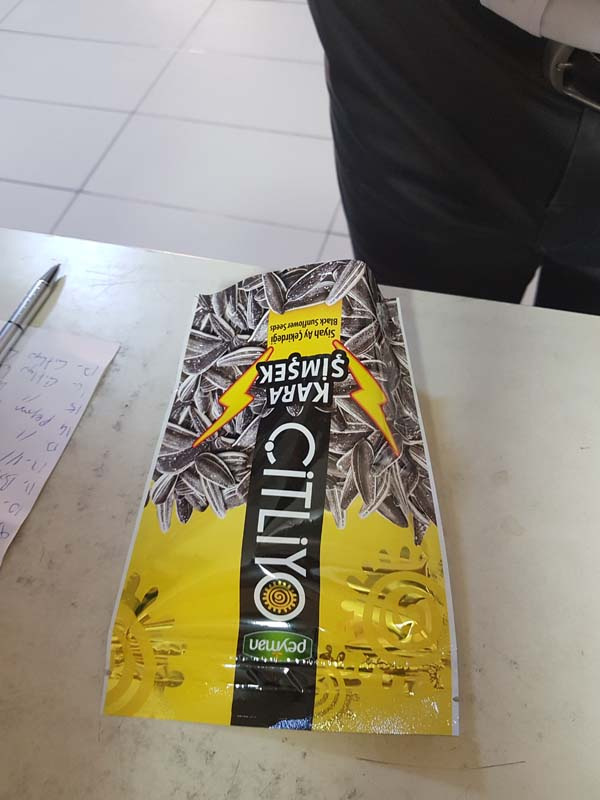citliyokarasimsek: (108, 257, 470, 738)
